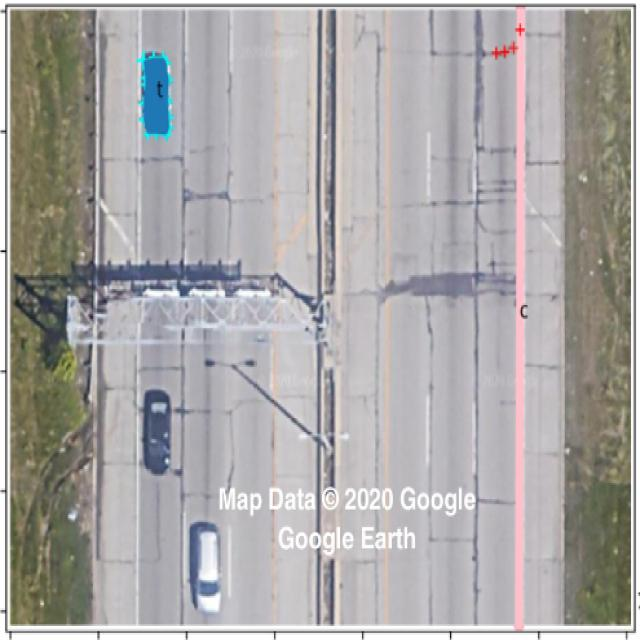crack: (428, 298, 440, 632), (376, 272, 513, 301), (371, 33, 380, 279), (472, 294, 478, 563), (224, 409, 238, 499), (473, 12, 484, 111), (94, 559, 160, 572), (136, 363, 188, 374), (184, 189, 229, 201), (477, 180, 515, 194), (477, 493, 520, 503), (532, 154, 562, 166), (104, 159, 141, 167), (438, 198, 474, 205), (142, 157, 182, 162), (175, 407, 202, 414), (492, 148, 518, 155), (96, 209, 138, 212), (477, 197, 489, 203)
road: (93, 7, 566, 625)
